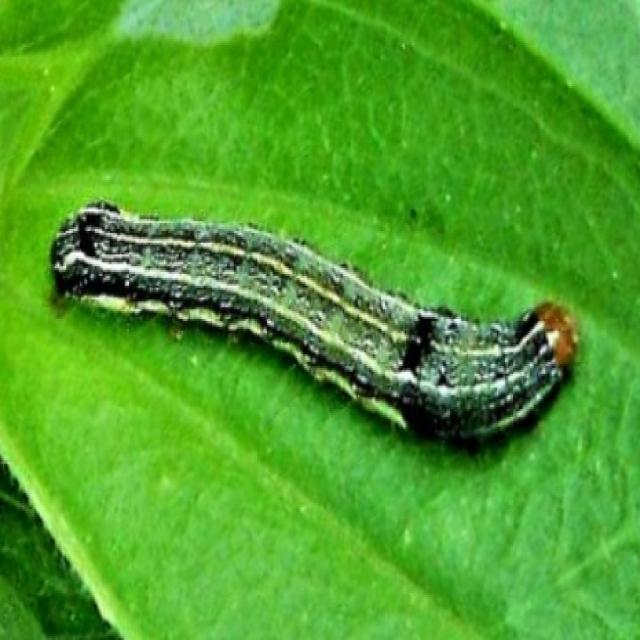Armyworm: (35, 171, 586, 484)
